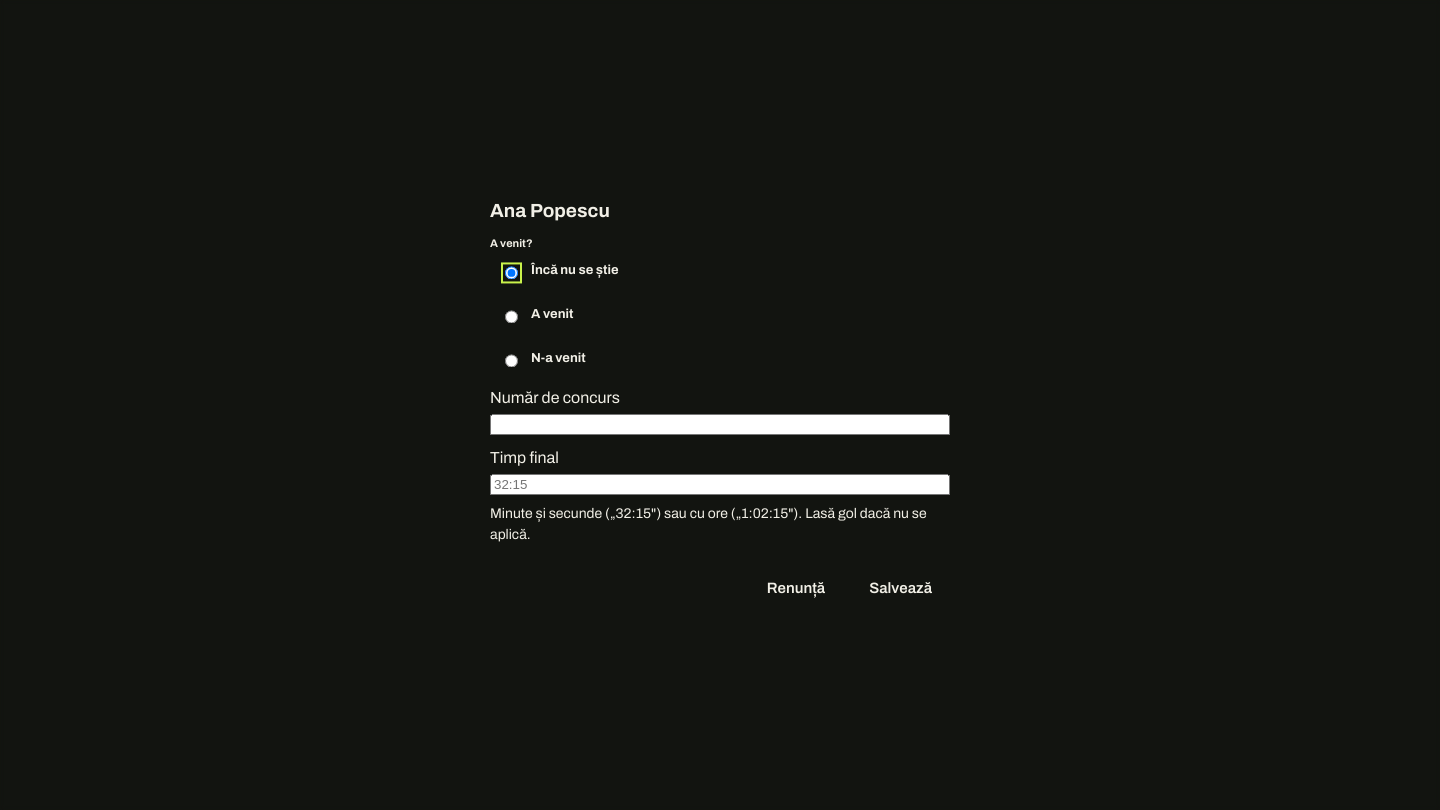
DialogPrezenta — numărul și timpul › un număr zero sau negativ oprește salvarea
Type "0" into the field labelled "Număr de concurs".
click(720, 425); type("0")  # box top-left (490, 414), bottom-right (950, 435)
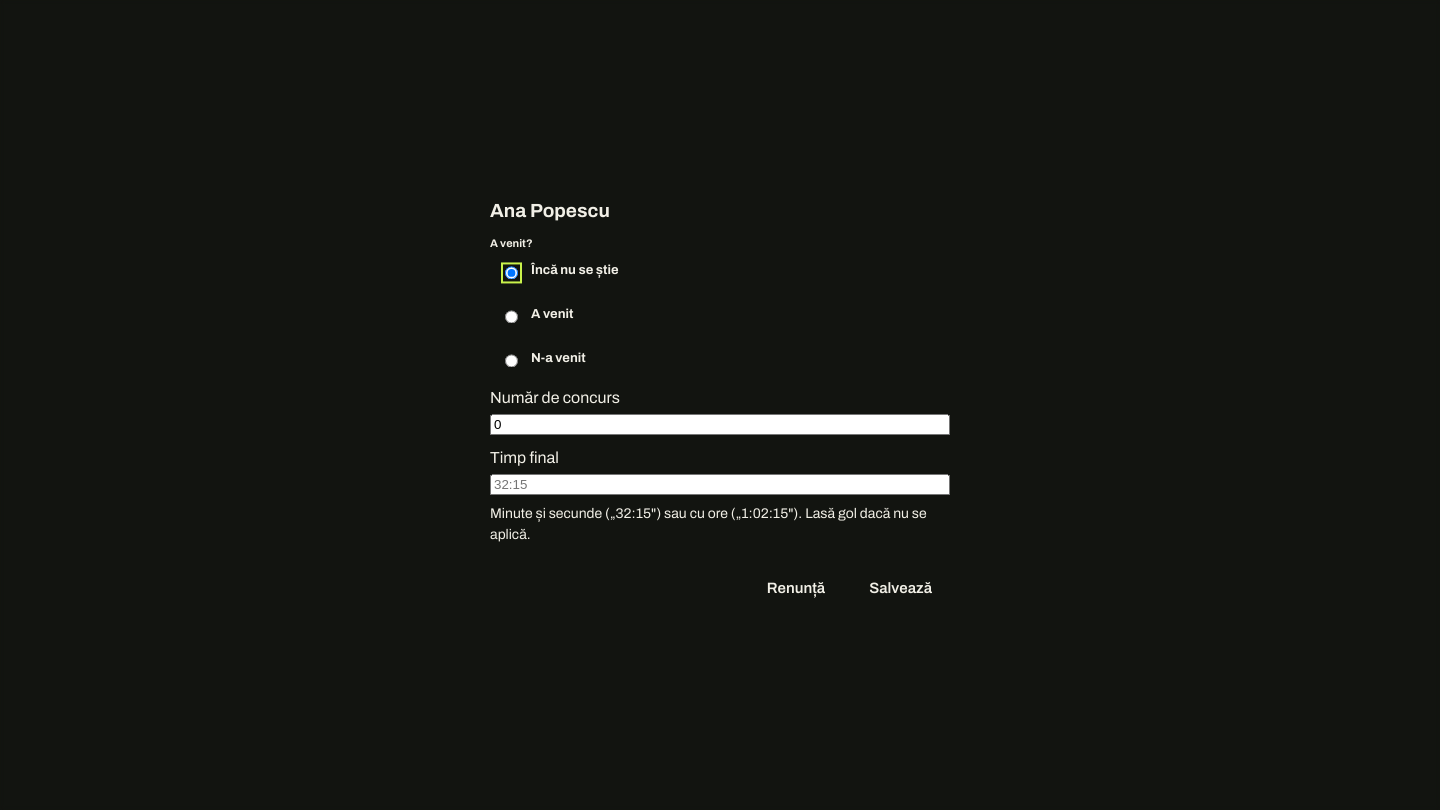
Click the button "Salvează".
click(901, 589)  # box top-left (851, 567), bottom-right (950, 611)
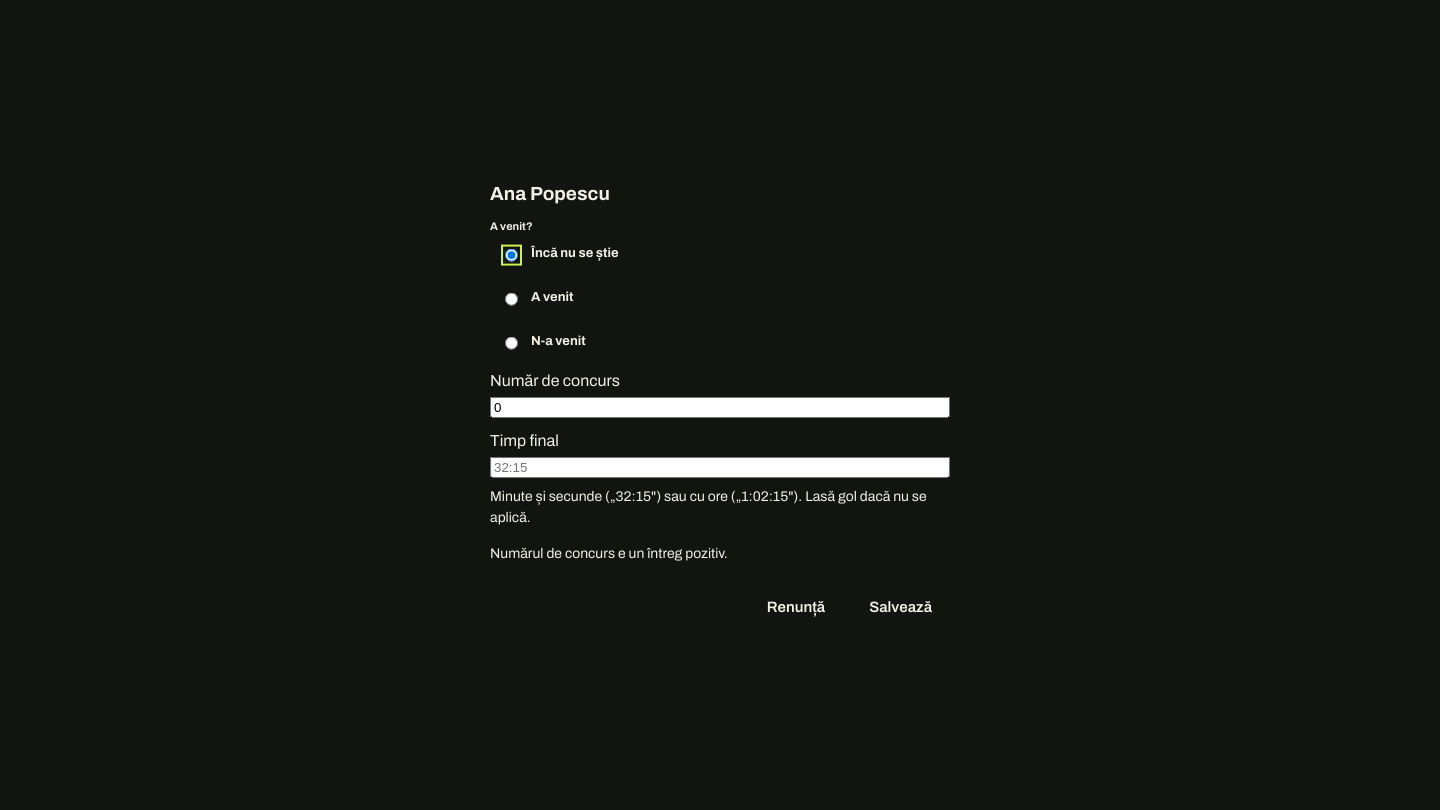
Expected: the message "Numărul de concurs e un întreg pozitiv." is shown, top-left (490, 546), bottom-right (728, 561)
